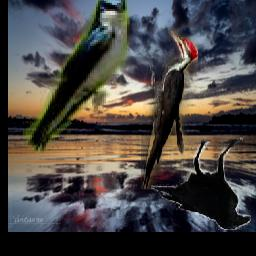Crow: (151, 138, 251, 231)
Swallow: (24, 0, 131, 155)
Woodpecker: (142, 28, 199, 189)
